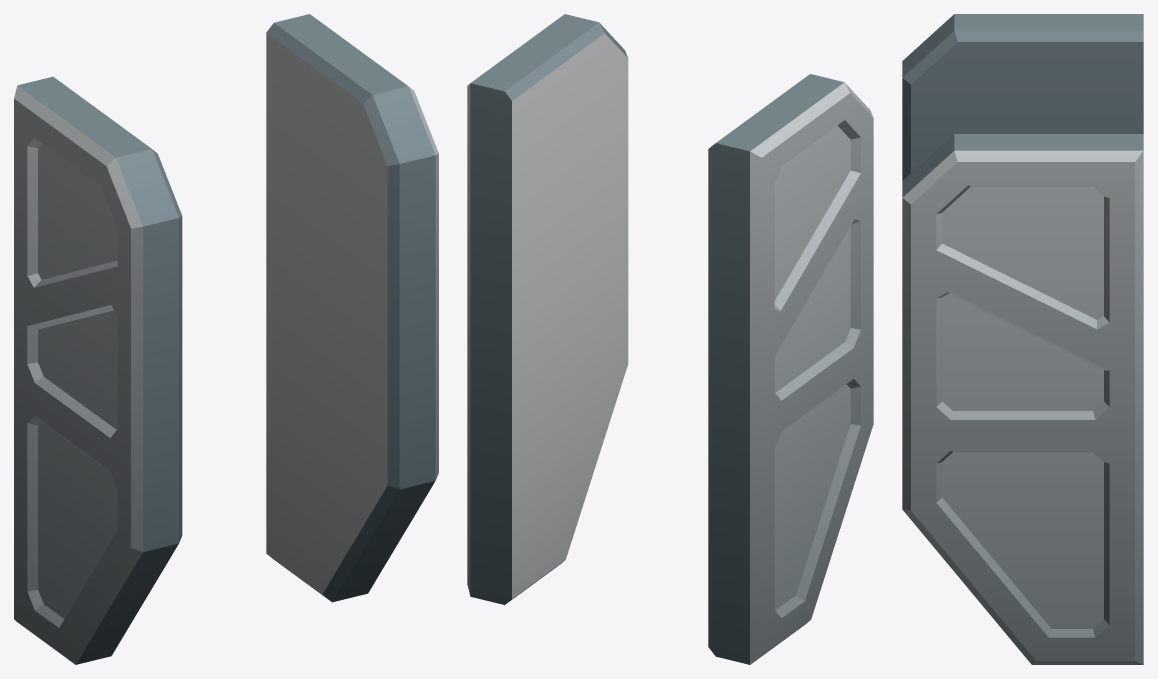
3 views of the same model, side by side, from view 1: azimuth 30°, elevation 25°; view 2: azimuth 150°, elevation 25°; view 3: azimuth 270°, elevation 25° (orthographic). The views are drawn at different scales.
Visible parts, largest first — view 1: Сapsule_001; view 2: Сapsule_001; view 3: Сapsule_001.
Part boxes in pixels (x1,y1,x2,y2): Сapsule_001: (14,14,438,664); Сapsule_001: (467,14,873,664); Сapsule_001: (902,14,1143,664).
Bounding box in the file's own units: 120 × 85 × 200.
